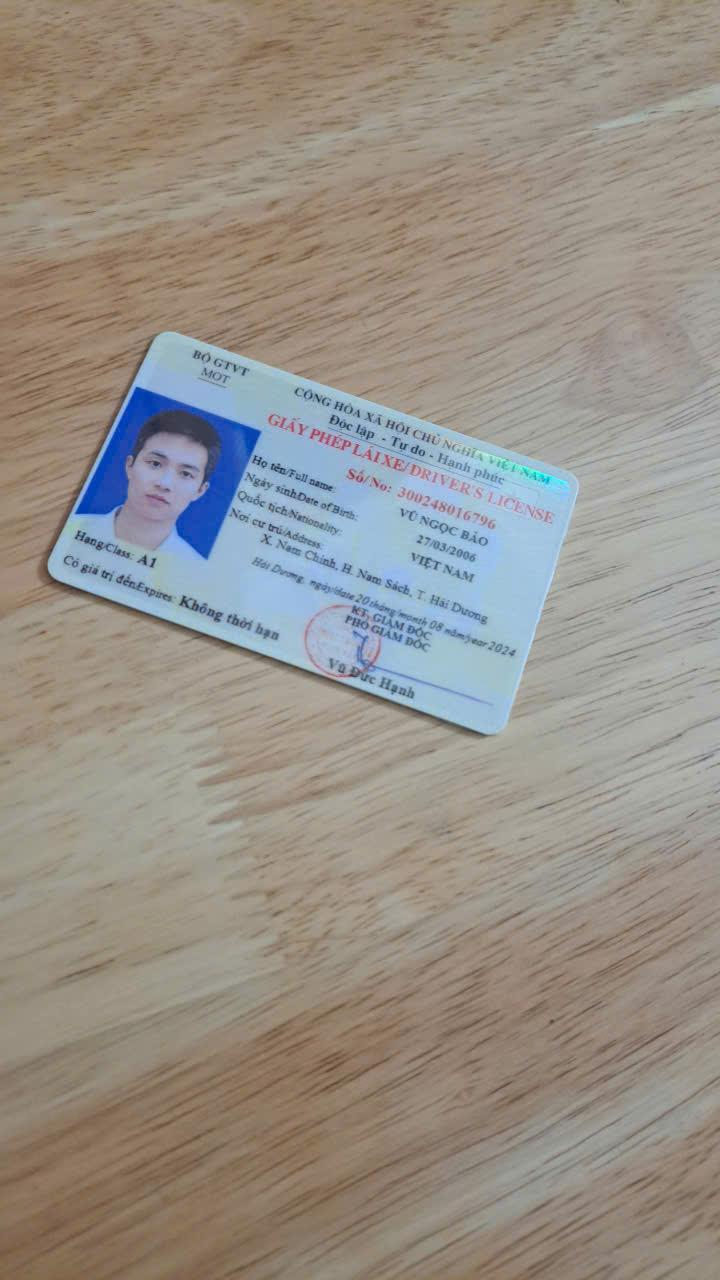gplx: (40, 325, 590, 748)
